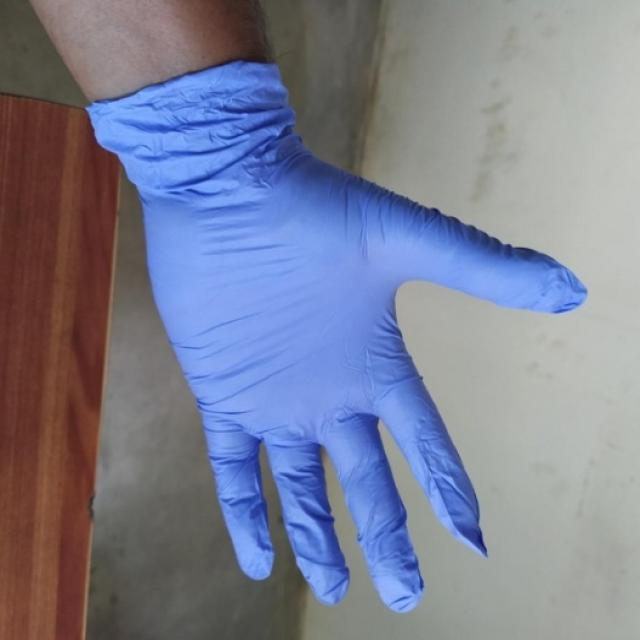Gloves: (69, 82, 586, 625)
